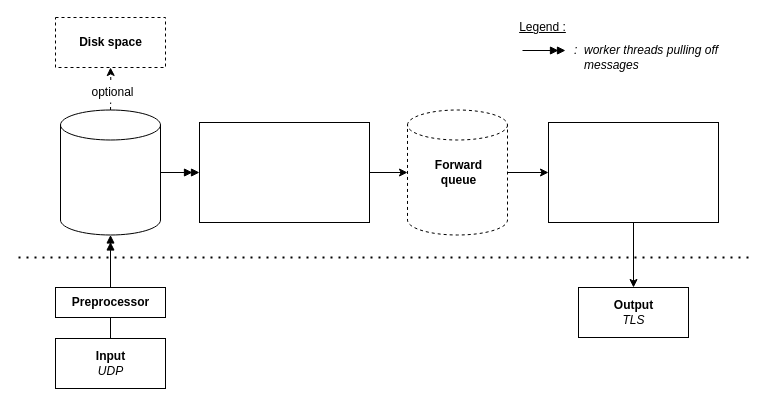
This 767x406 diagram has some shape labels left out. The centre of each missing label's shape, as x and y in pixels:
"Forward processor build RFC5424 message with both timestamps" goes at point 633,172.
"Main queue" goes at point 110,172.
"Parser & filter engine parse legacy RFC3164 messages" goes at point 284,172.
